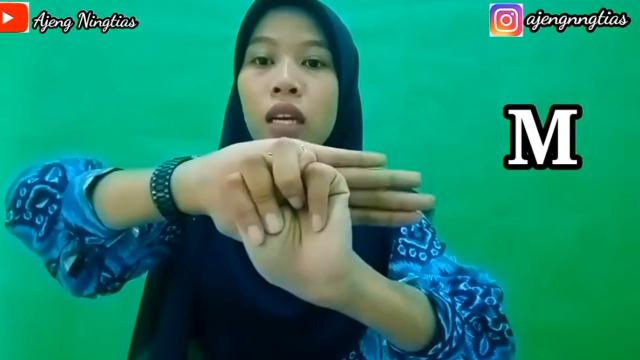M: (225, 138, 358, 302)
